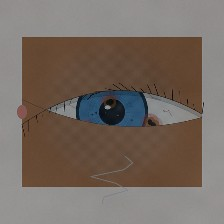foreign_body_visible: (135, 110, 165, 134)
